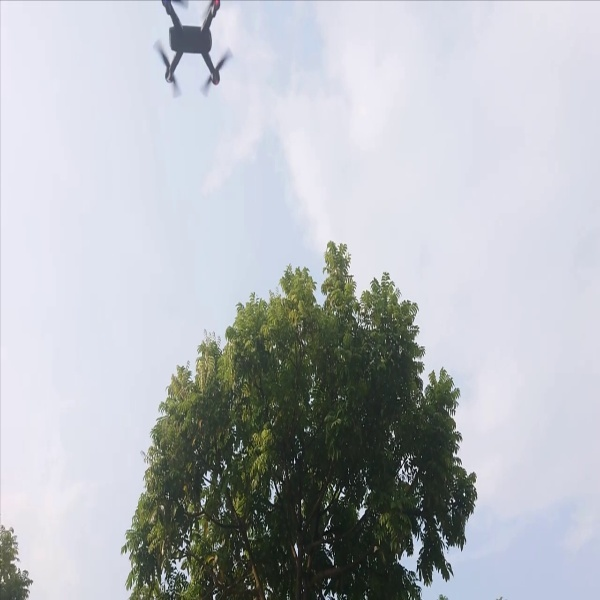drone: (150, 1, 247, 104)
